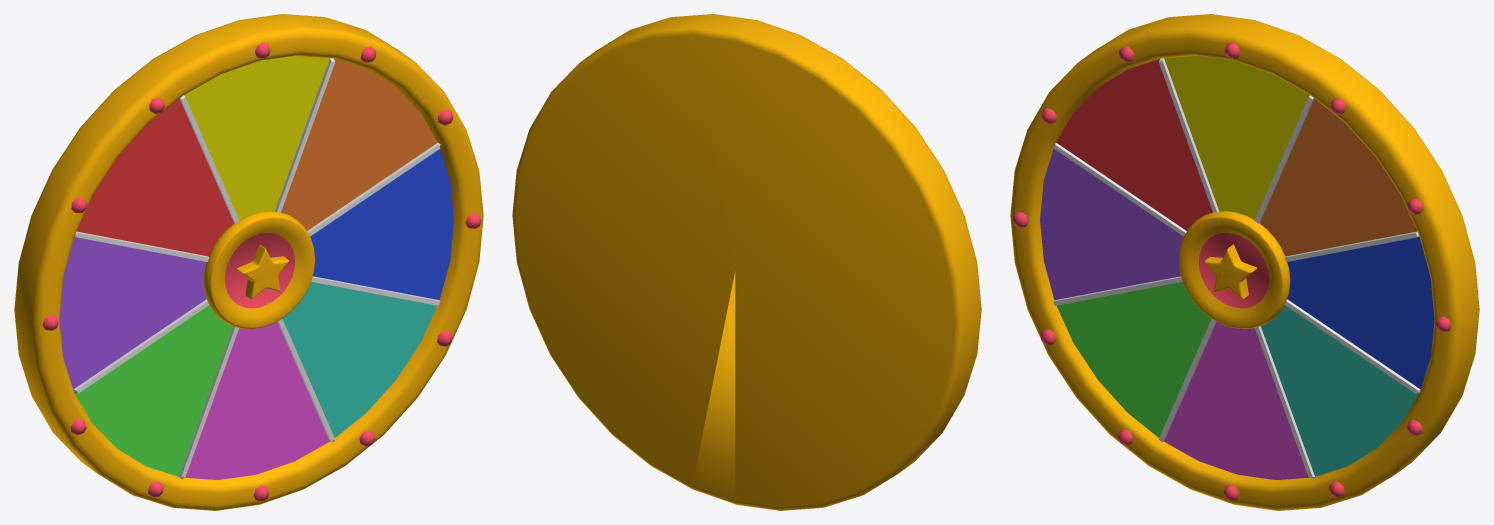
Rendered from lucky-wheel-wheel-edited.glb.
3 views of the same model, side by side, from view 1: azimuth 30°, elevation 25°; view 2: azimuth 150°, elevation 25°; view 3: azimuth 330°, elevation 25° (orthographic).
Visible parts, largest first — view 1: Object_10, Object_13, Object_19, Object_12, Object_14, Object_18, Object_16, Object_17, Object_15, Object_20, Object_11; view 2: Object_10; view 3: Object_10, Object_17, Object_19, Object_18, Object_15, Object_12, Object_16, Object_13, Object_14, Object_20, Object_11.
Part boxes in pixels (x1,y1,x2,y2): Object_10: [14, 14, 483, 510]; Object_13: [59, 236, 206, 389]; Object_19: [184, 55, 329, 219]; Object_12: [76, 98, 233, 256]; Object_14: [75, 305, 232, 476]; Object_18: [281, 59, 437, 230]; Object_16: [185, 322, 329, 479]; Object_17: [310, 149, 453, 300]; Object_15: [282, 282, 436, 437]; Object_20: [73, 58, 440, 478]; Object_11: [42, 42, 481, 500]; Object_10: [512, 14, 981, 510]; Object_10: [1010, 14, 1479, 510]; Object_17: [1287, 236, 1434, 389]; Object_19: [1164, 55, 1309, 219]; Object_18: [1260, 98, 1417, 256]; Object_15: [1261, 305, 1418, 476]; Object_12: [1056, 59, 1212, 230]; Object_16: [1164, 322, 1308, 479]; Object_13: [1040, 149, 1183, 300]; Object_14: [1057, 282, 1211, 437]; Object_20: [1053, 58, 1420, 478]; Object_11: [1012, 42, 1451, 500].
Size of the model in its own units: 1.29 by 1.29 by 0.145.
